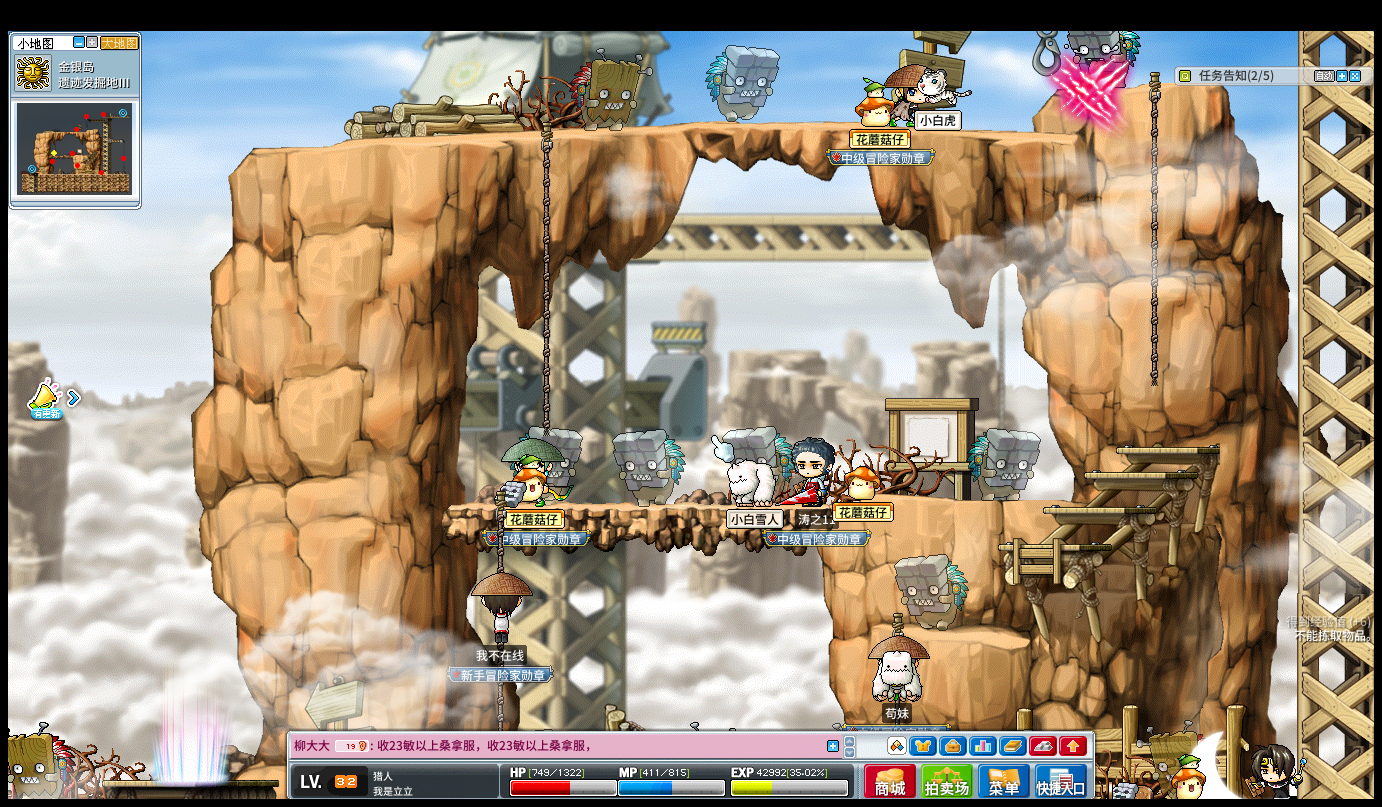floor: (233, 116, 1096, 150), (452, 501, 823, 516), (918, 626, 1030, 647), (890, 497, 1075, 508), (894, 495, 1078, 505), (1079, 470, 1192, 481), (1043, 505, 1155, 516), (1113, 444, 1219, 455), (1044, 503, 1160, 513), (996, 542, 1108, 551)
monster: (1054, 28, 1138, 114), (704, 42, 782, 125), (572, 50, 647, 129), (894, 554, 969, 631), (613, 428, 686, 506), (967, 428, 1040, 501), (3, 725, 71, 795), (542, 425, 583, 504), (721, 427, 792, 463)
rope: (1146, 64, 1160, 391), (539, 119, 551, 434), (491, 497, 503, 572)
